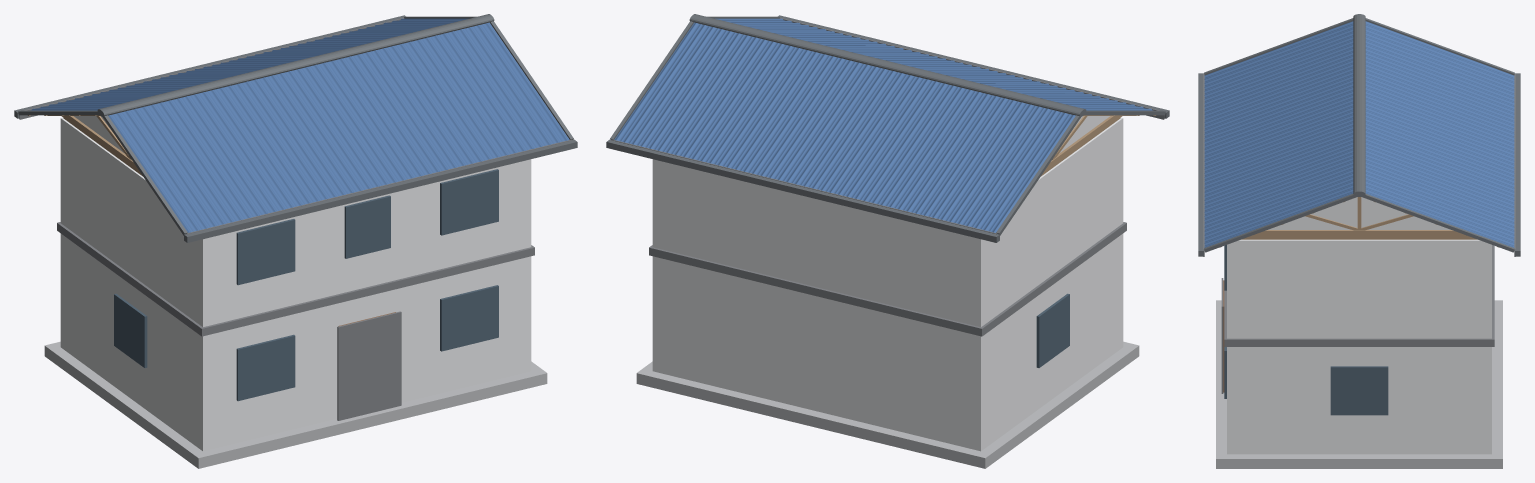
The model's file is Mega_Six_Ribs_Two_Storey_8x6.glb.
3 renders of one model, left to right at view 1: azimuth 30°, elevation 25°; view 2: azimuth 150°, elevation 25°; view 3: azimuth 270°, elevation 25°, orthographic. The views are drawn at different scales.
Visible parts, largest first — view 1: GroundFloor_Walls, Foundation, Door_Frame, RoofSheet_08, RoofSheet_06, RoofSheet_02, RoofSheet_03, RoofSheet_04, RoofSheet_05, RoofSheet_07, RoofSheet_09, RoofSheet_01 (+24 smaller); view 2: GroundFloor_Walls, Foundation, RoofSheet_17, RoofSheet_15, RoofSheet_11, RoofSheet_12, RoofSheet_13, RoofSheet_14, RoofSheet_16, RoofSheet_18, RoofSheet_10, SecondFloor_BandTrim (+18 smaller); view 3: GroundFloor_Walls, Foundation, RoofSheet_02, RoofSheet_11, RoofSheet_04, RoofSheet_05, RoofSheet_06, RoofSheet_07, RoofSheet_13, RoofSheet_14, RoofSheet_15, RoofSheet_16 (+23 smaller).
Boxes of the visible parts, <box> form: GroundFloor_Walls: <box>60,117,531,451</box>; Foundation: <box>44,341,547,468</box>; Door_Frame: <box>337,311,401,420</box>; RoofSheet_08: <box>406,32,528,160</box>; RoofSheet_06: <box>320,53,442,181</box>; RoofSheet_02: <box>148,95,270,222</box>; RoofSheet_03: <box>191,85,313,212</box>; RoofSheet_04: <box>234,74,356,201</box>; RoofSheet_05: <box>277,64,399,191</box>; RoofSheet_07: <box>363,43,485,170</box>; RoofSheet_09: <box>449,22,569,149</box>; RoofSheet_01: <box>108,106,227,232</box>; GroundFloor_Walls: <box>652,117,1123,451</box>; Foundation: <box>636,341,1139,468</box>; RoofSheet_17: <box>655,32,777,160</box>; RoofSheet_15: <box>741,53,863,181</box>; RoofSheet_11: <box>913,95,1035,222</box>; RoofSheet_12: <box>870,85,992,212</box>; RoofSheet_13: <box>827,74,949,201</box>; RoofSheet_14: <box>784,64,906,191</box>; RoofSheet_16: <box>698,43,820,170</box>; RoofSheet_18: <box>614,22,734,149</box>; RoofSheet_10: <box>956,106,1075,232</box>; SecondFloor_BandTrim: <box>649,222,1126,336</box>; GroundFloor_Walls: <box>1227,239,1491,454</box>; Foundation: <box>1216,300,1502,468</box>; RoofSheet_02: <box>1204,40,1353,113</box>; RoofSheet_11: <box>1365,40,1514,113</box>; RoofSheet_04: <box>1204,79,1353,152</box>; RoofSheet_05: <box>1204,98,1353,171</box>; RoofSheet_06: <box>1204,118,1353,191</box>; RoofSheet_07: <box>1204,137,1353,210</box>; RoofSheet_13: <box>1365,79,1514,152</box>; RoofSheet_14: <box>1365,98,1514,171</box>; RoofSheet_15: <box>1365,118,1514,191</box>; RoofSheet_16: <box>1365,137,1514,210</box>.
Size of the model in its own units: 9.51 by 7.16 by 7.3.
